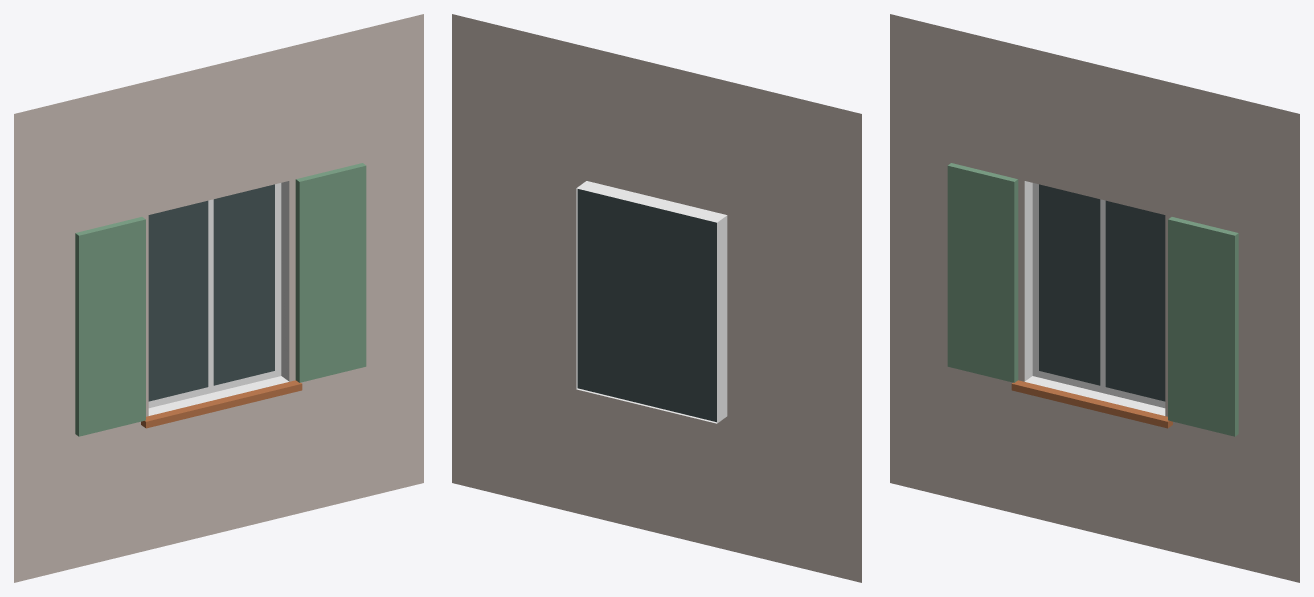
File: top-w3.fbx
3 views of the same model, side by side, from view 1: azimuth 30°, elevation 25°; view 2: azimuth 150°, elevation 25°; view 3: azimuth 330°, elevation 25° (orthographic).
Visible parts, largest first — view 1: a2000s2/200/top-w3; view 2: a2000s2/200/top-w3; view 3: a2000s2/200/top-w3.
Boxes of the visible parts, <box> form: a2000s2/200/top-w3: <box>14,14,423,582</box>; a2000s2/200/top-w3: <box>452,14,861,582</box>; a2000s2/200/top-w3: <box>890,14,1299,582</box>.
Size of the model in its own units: 3.2 by 3.5 by 0.21.
